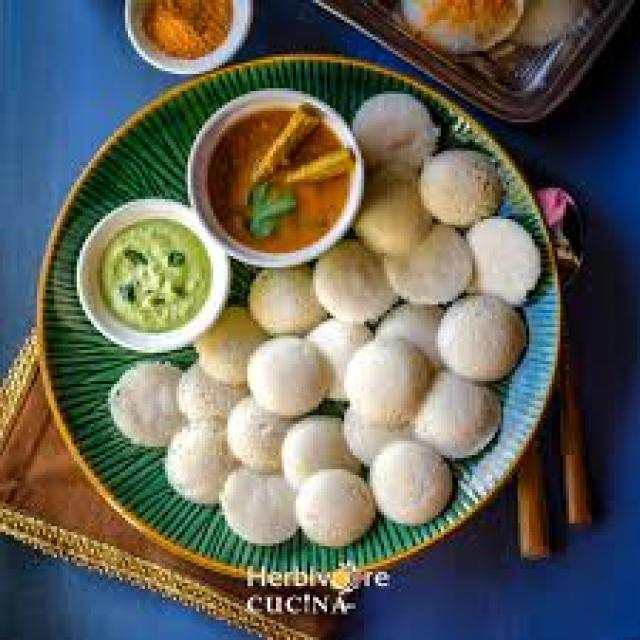IDLI: (436, 294, 531, 385), (344, 338, 437, 425), (385, 224, 472, 309), (310, 240, 397, 324), (374, 446, 457, 528), (167, 415, 237, 508), (245, 339, 329, 415), (416, 377, 495, 456), (466, 218, 539, 301), (222, 472, 304, 545), (294, 475, 377, 546), (353, 95, 433, 168), (279, 420, 358, 492), (417, 152, 497, 223), (109, 369, 178, 447), (361, 170, 425, 254), (252, 271, 317, 344), (182, 369, 242, 424)
